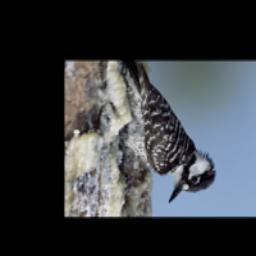Woodpecker: (93, 64, 217, 208)
